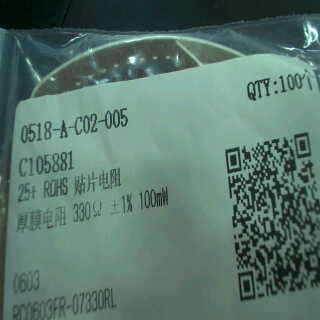330R: (70, 196, 106, 224)
